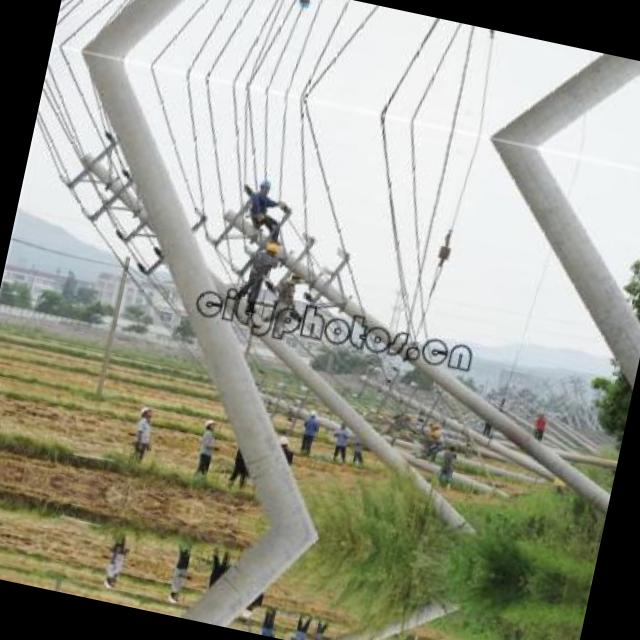helmet: (138, 401, 156, 422), (101, 572, 119, 592), (200, 414, 216, 436), (262, 240, 279, 260), (165, 583, 180, 605), (276, 431, 290, 452), (240, 599, 253, 620), (258, 174, 270, 196), (306, 407, 318, 422), (296, 0, 309, 12)
